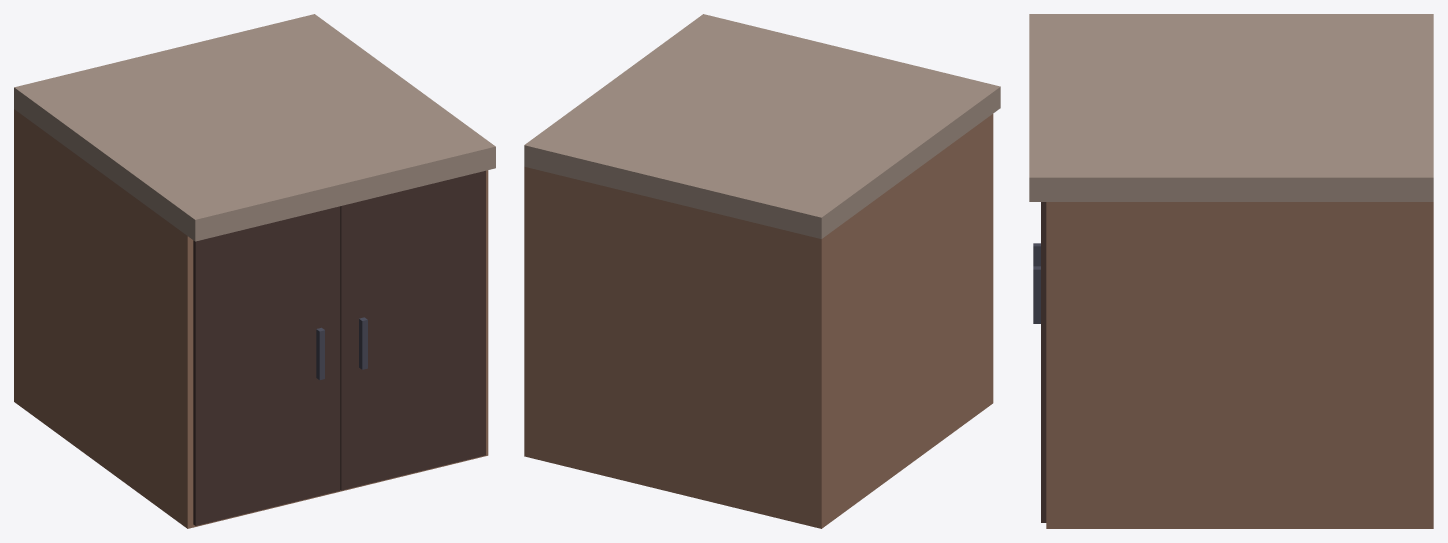
File: Counter01.fbx
3 views of the same model, side by side, from view 1: azimuth 30°, elevation 25°; view 2: azimuth 150°, elevation 25°; view 3: azimuth 270°, elevation 25° (orthographic). The views are drawn at different scales.
Parts seen in each view (by area): view 1: Cube.049; view 2: Cube.049; view 3: Cube.049.
Boxes of the visible parts, left/top/right/bottom form: Cube.049: left=14, top=14, right=495, bottom=528; Cube.049: left=524, top=14, right=1000, bottom=528; Cube.049: left=1029, top=14, right=1433, bottom=528.
Bounding box in the file's own units: 100 × 100 × 104.
